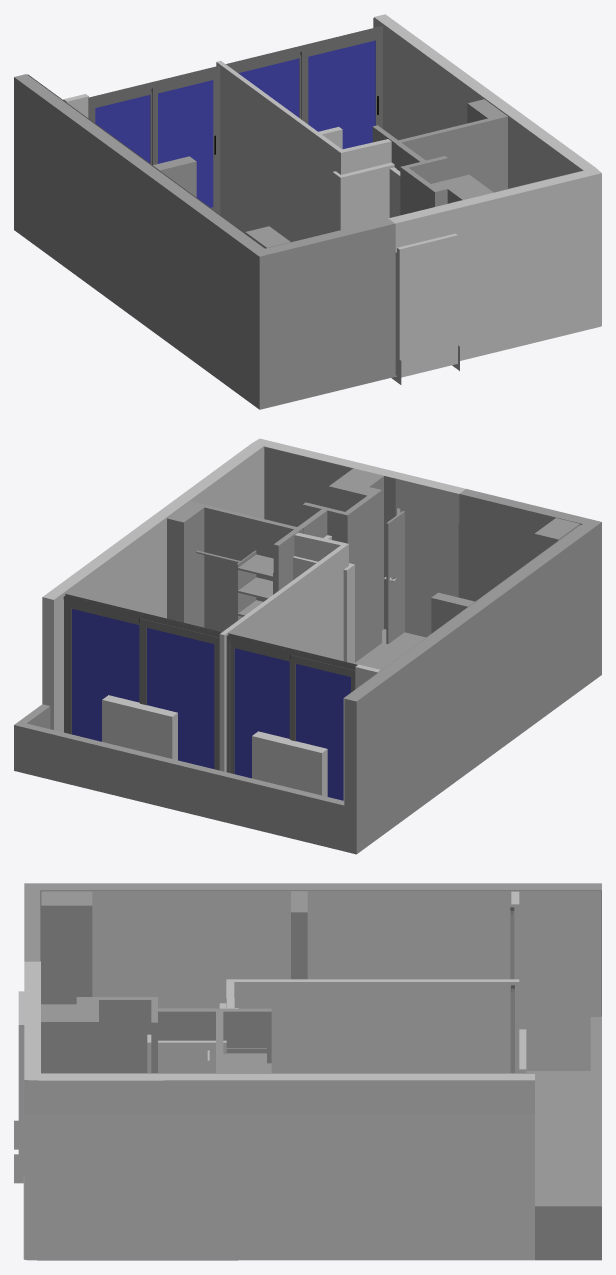
The model's file is Dpto1.obj.
The picture shows the model from 3 angles, top to bottom: view 1: azimuth 30°, elevation 25°; view 2: azimuth 150°, elevation 25°; view 3: azimuth 270°, elevation 25°; orthographic projection. The views are drawn at different scales.
Parts seen in each view (by area): view 1: Muro_Estructural_Oeste_Cube.017, Muro_Estructural_este_Cube.018, Muro_divisor_Cube.009, Muro_este_Plane.002, CTRL_Hole.003_CTRL_Hole.004, Window.R_Window.R.001, Window.R.001_Window.R.002, Closet_Dormitorio_Cube.010, Closet_Baño_Cube.013, CTRL_Hole.002_CTRL_Hole.001, Window.L.001_Window.L.002, Window.L_Window.L.001 (+5 smaller); view 2: Muro_Estructural_Oeste_Cube.017, Muro_Balcon_Cube.016, Closet_Dormitorio_Cube.010, Muro_divisor_Cube.009, Muro_este_Plane.002, Window.L_Window.L.001, Muro_Estructural_este_Cube.018, Closet_Baño_Cube.013, Window.R_Window.R.001, Muro_suroeste_Plane.003, Window.R.001_Window.R.002, Window.L.001_Window.L.002 (+13 smaller); view 3: Muro_Estructural_este_Cube.018, Muro_oeste_Plane.001, Muro_divisor_Cube.009, Closet_Baño_Cube.013, Suelo_Plane.005, Muro_Balcon_Cube.016, Muro_Estructural_Oeste_Cube.017, Extractor_cocina_Cube.015, Closet_Dormitorio_Cube.010, CTRL_Hole.004_CTRL_Hole.005, Separador_Cocina_Cube.011, CTRL_Hole.003_CTRL_Hole.004 (+2 smaller).
Part boxes in pixels (<box>): Muro_Estructural_Oeste_Cube.017: <box>14,74,395,409</box>; Muro_Estructural_este_Cube.018: <box>374,14,601,360</box>; Muro_divisor_Cube.009: <box>216,61,391,242</box>; Muro_este_Plane.002: <box>373,18,581,188</box>; CTRL_Hole.003_CTRL_Hole.004: <box>396,233,457,377</box>; Window.R_Window.R.001: <box>300,33,379,148</box>; Window.R.001_Window.R.002: <box>151,72,216,211</box>; Closet_Dormitorio_Cube.010: <box>372,99,507,192</box>; Closet_Baño_Cube.013: <box>396,143,493,215</box>; CTRL_Hole.002_CTRL_Hole.001: <box>332,162,394,231</box>; Window.L.001_Window.L.002: <box>93,89,151,164</box>; Window.L_Window.L.001: <box>233,53,300,118</box>; Muro_Estructural_Oeste_Cube.017: <box>344,489,601,854</box>; Muro_Balcon_Cube.016: <box>14,704,344,851</box>; Closet_Dormitorio_Cube.010: <box>167,501,302,631</box>; Muro_divisor_Cube.009: <box>219,532,348,771</box>; Muro_este_Plane.002: <box>55,447,264,732</box>; Window.L_Window.L.001: <box>139,618,219,770</box>; Muro_Estructural_este_Cube.018: <box>42,438,465,730</box>; Closet_Baño_Cube.013: <box>298,468,384,662</box>; Window.R_Window.R.001: <box>66,603,139,741</box>; Muro_suroeste_Plane.003: <box>458,494,581,601</box>; Window.R.001_Window.R.002: <box>230,642,290,778</box>; Window.L.001_Window.L.002: <box>290,654,355,800</box>; Muro_Estructural_este_Cube.018: <box>24,961,534,1260</box>; Muro_oeste_Plane.001: <box>42,891,601,1070</box>; Muro_divisor_Cube.009: <box>226,979,519,1072</box>; Closet_Baño_Cube.013: <box>41,997,214,1072</box>; Suelo_Plane.005: <box>23,1071,590,1258</box>; Muro_Balcon_Cube.016: <box>535,1016,601,1260</box>; Muro_Estructural_Oeste_Cube.017: <box>24,883,601,1016</box>; Extractor_cocina_Cube.015: <box>41,891,92,1004</box>; Closet_Dormitorio_Cube.010: <box>214,1008,271,1072</box>; CTRL_Hole.004_CTRL_Hole.005: <box>147,1034,226,1072</box>; Separador_Cocina_Cube.011: <box>291,891,307,979</box>; CTRL_Hole.003_CTRL_Hole.004: <box>18,991,24,1175</box>.
Bounding box in the file's own units: 5.87 × 2.6 × 7.4.
